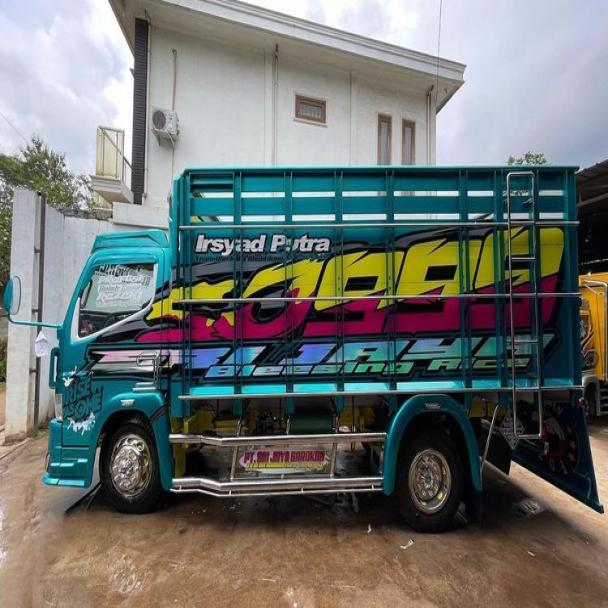Mobil: (30, 141, 607, 546)
